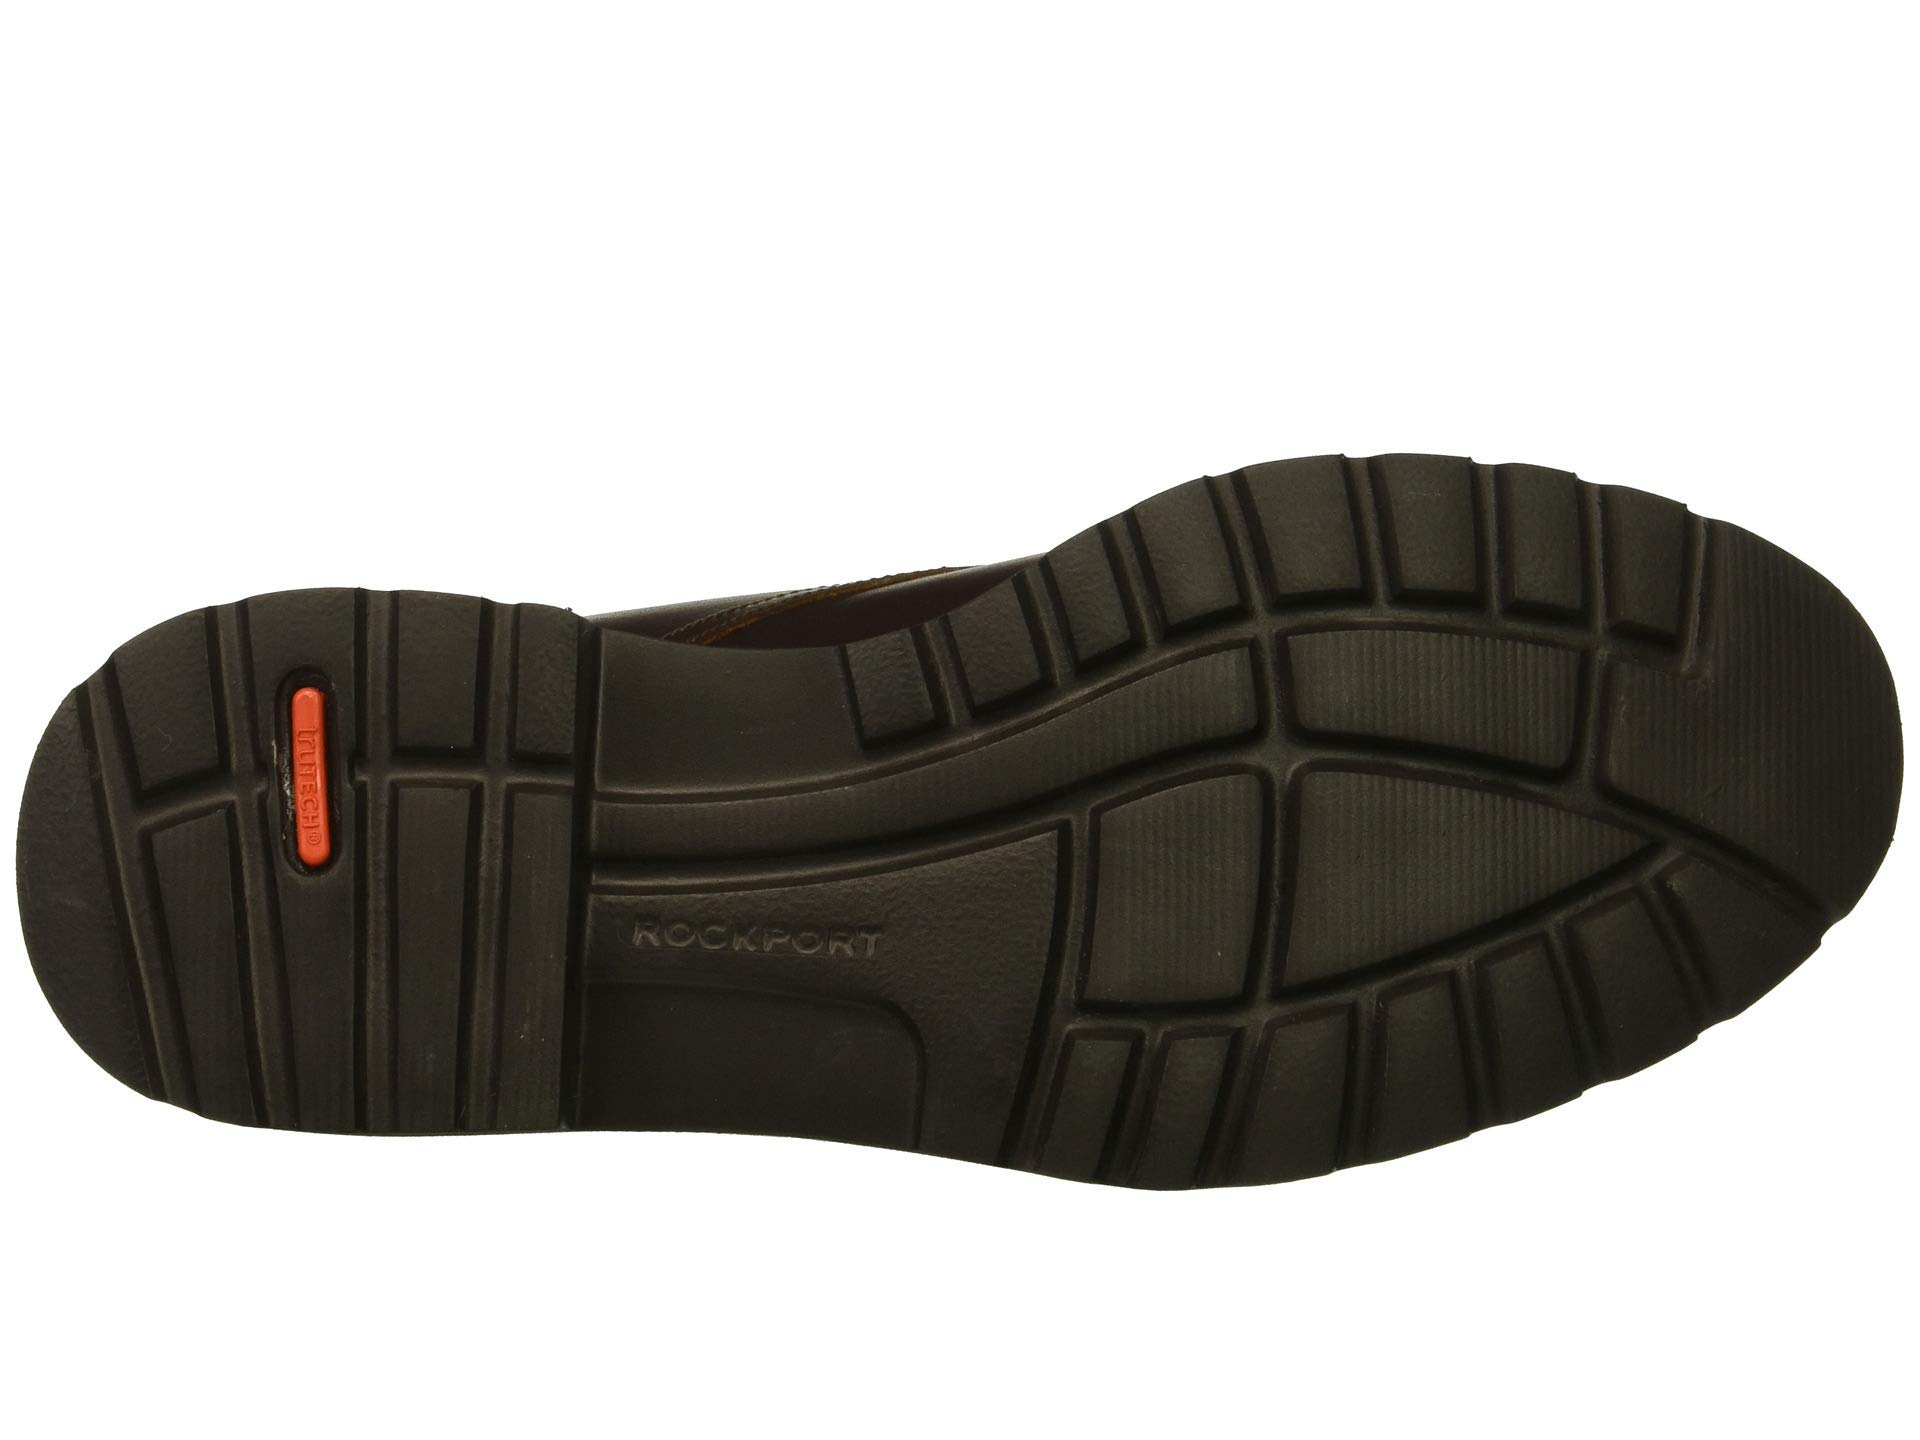circle: (602, 902, 931, 979)
line: (1237, 732, 1665, 1023)
quad: (1182, 448, 1628, 622), (265, 659, 360, 889)
text: (602, 902, 931, 979), (265, 659, 360, 889)
triangle: (1237, 732, 1665, 1023)
